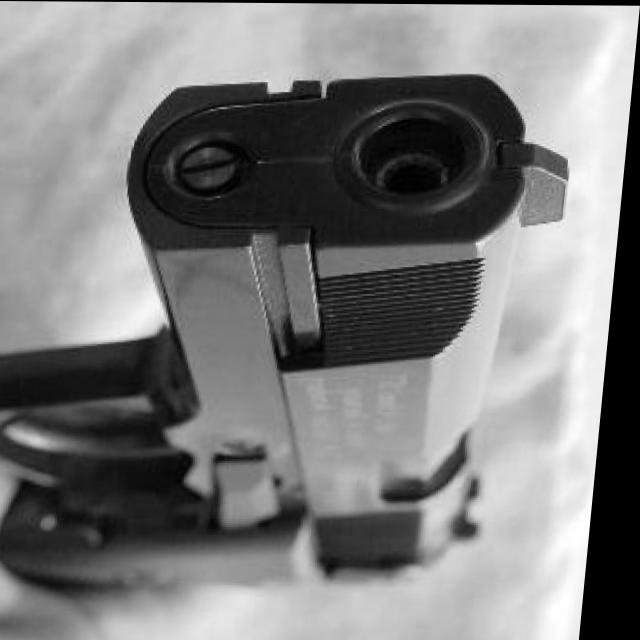handgun: (0, 64, 590, 591)
